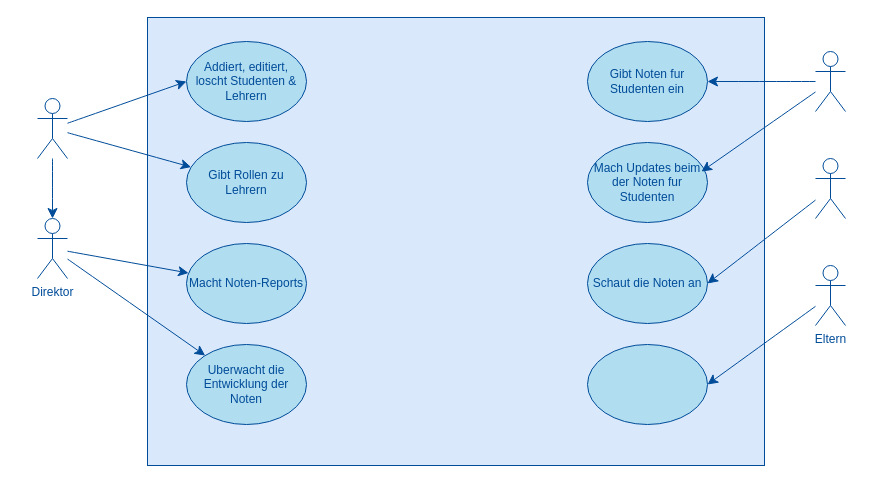
Image size: 871x483. Some labels were removed from this diagram. The box of each missing label's shape, as (x1, y1, x2, y2) in pixels:
Administrator: (36, 98, 68, 158)
Lehrer: (814, 50, 846, 112)
Schaut die Noten von Studenten an: (586, 344, 708, 424)
Schueler: (814, 158, 846, 218)
